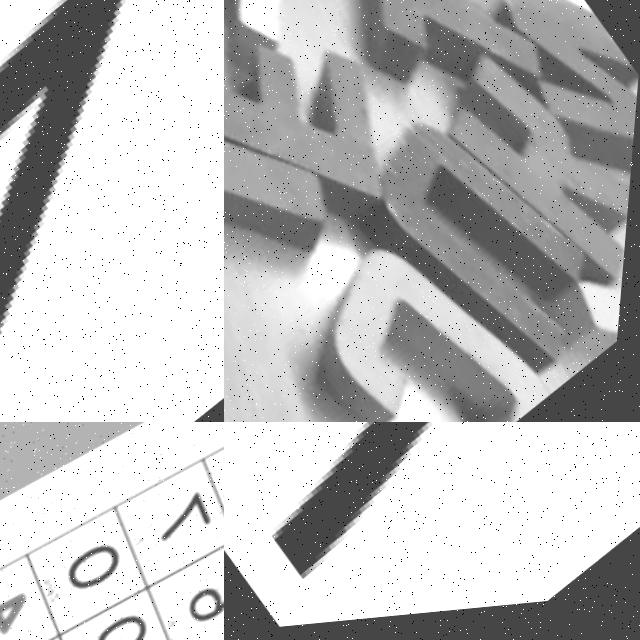0: (56, 528, 142, 612), (84, 597, 169, 640)
4: (0, 569, 55, 640)
6: (178, 567, 224, 640)
7: (224, 422, 640, 611), (145, 483, 224, 567)
E: (224, 0, 476, 317)
J: (224, 21, 381, 397)
K: (401, 12, 640, 351)
N: (461, 0, 640, 259)
U: (322, 71, 640, 422)
